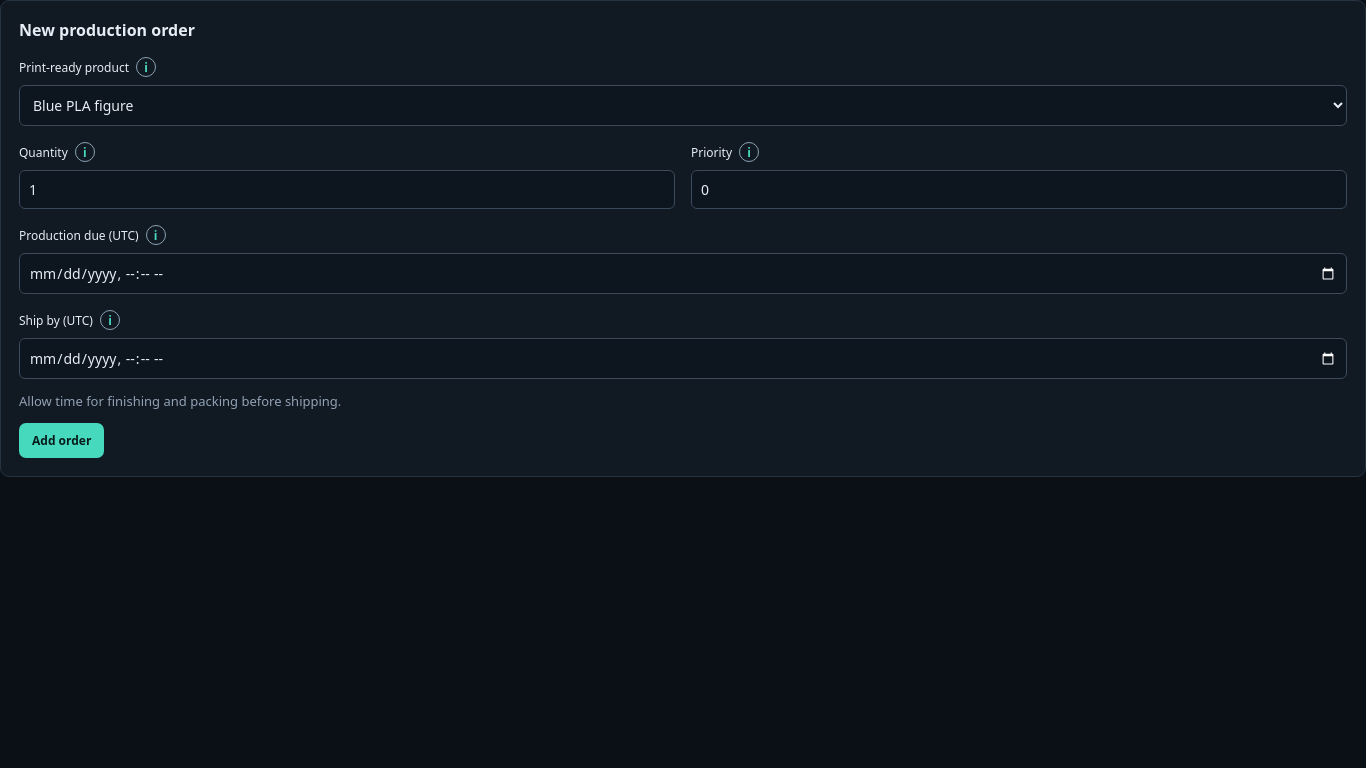
it: does not submit when production deadline follows ship-by
Type "2026-11-17T12:00" into the field labelled "Production due (UTC)". click: (683, 274)
box: [19,253,1347,294]
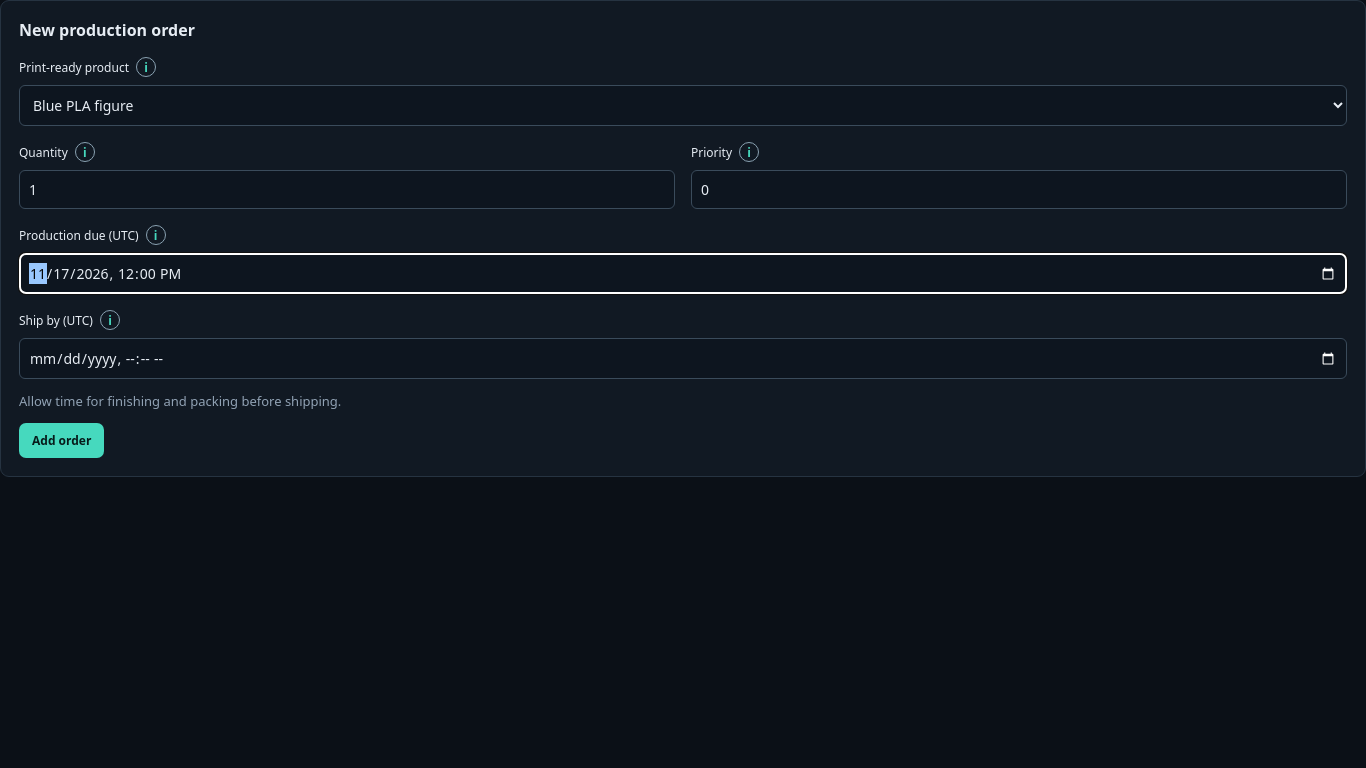
Type "2026-11-16T12:00" into the field labelled "Ship by (UTC)". click: (683, 358)
box: [19,338,1347,379]
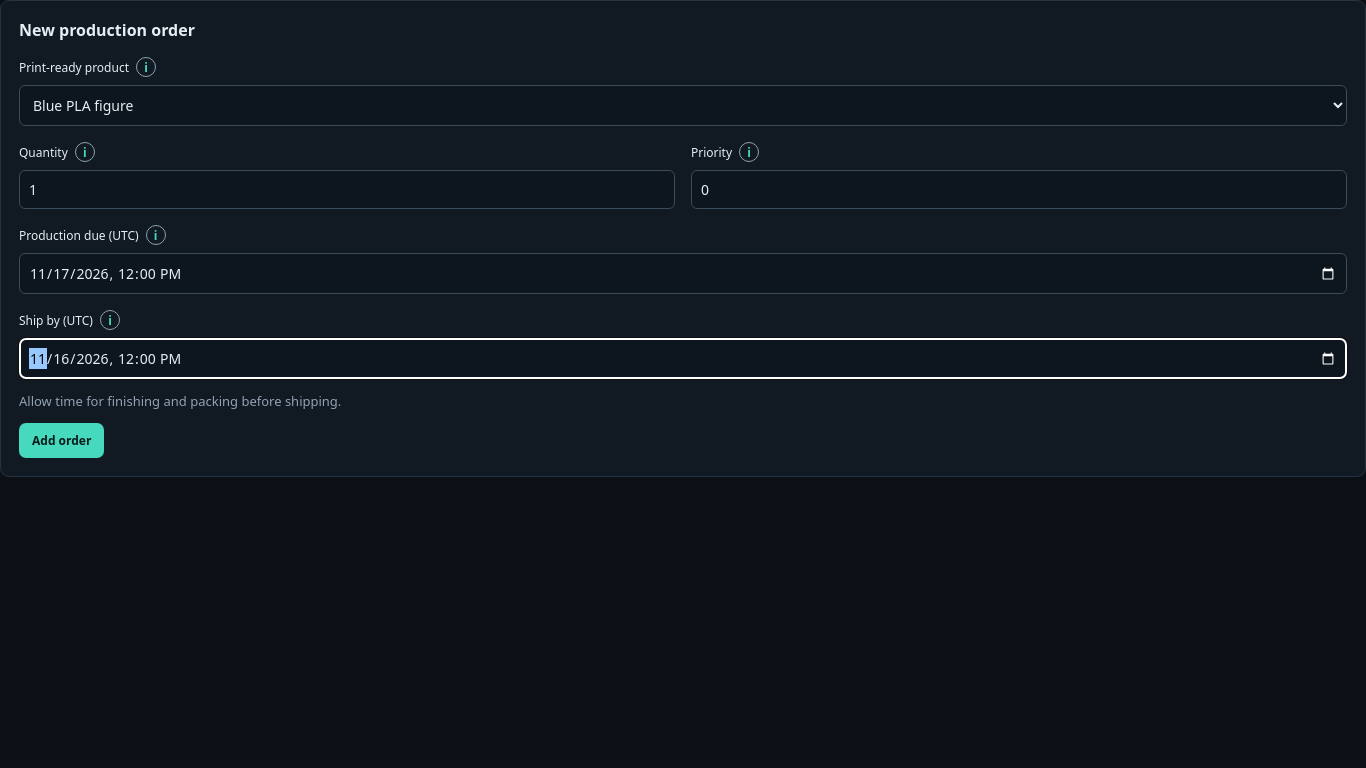
Click the button "Add order". click: (62, 440)
box: [19,423,104,458]
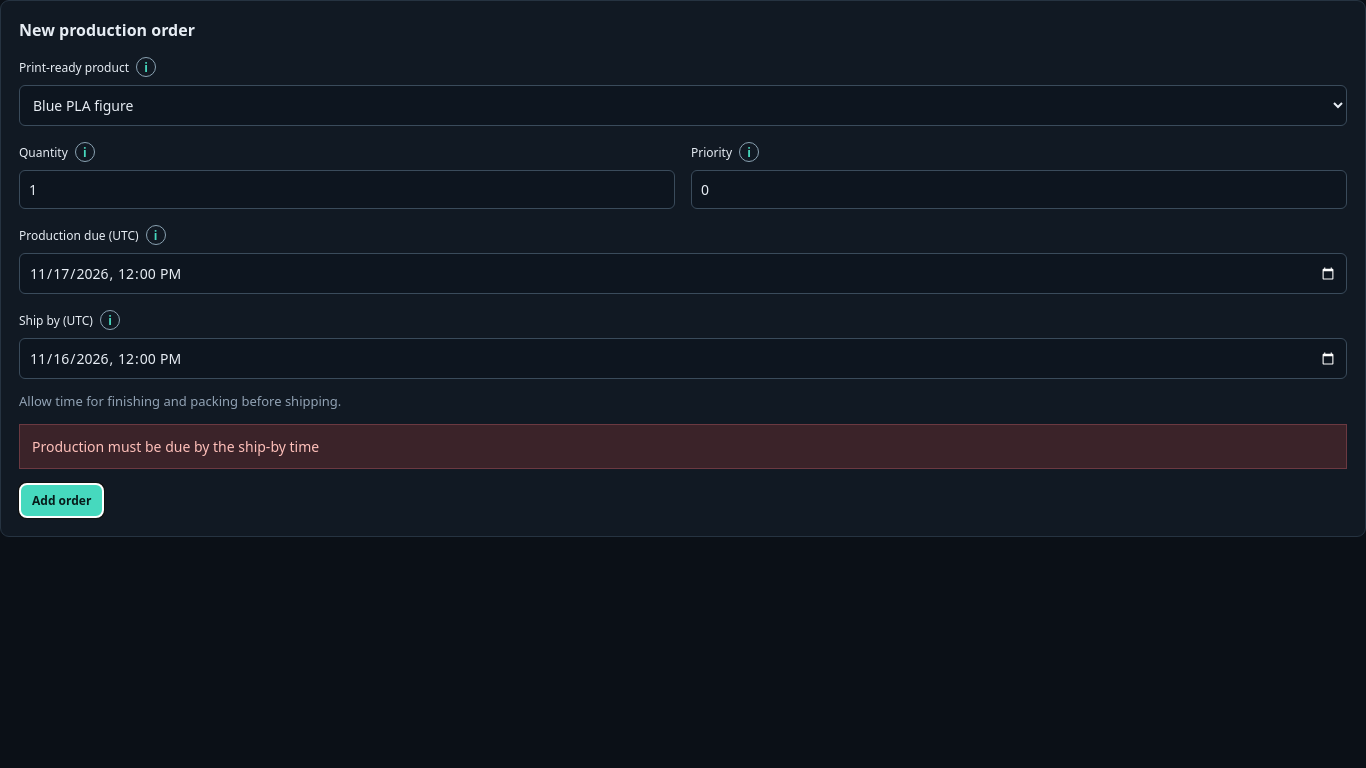
Expected: the message reads "Production must be due by the ship-by time", [32,437,319,456]
